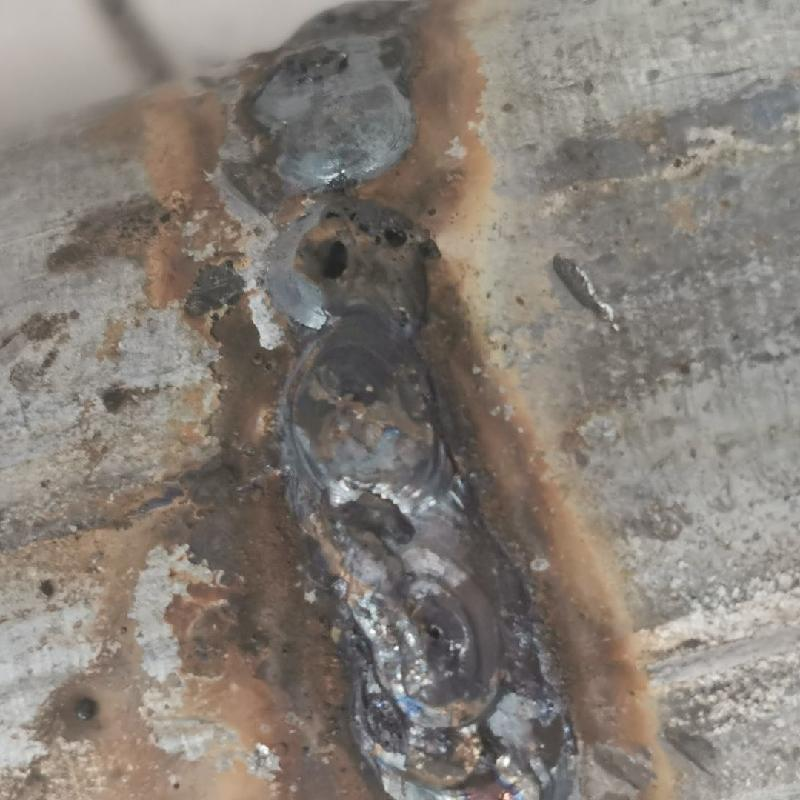Surface_pores: (307, 203, 408, 287), (415, 607, 457, 655)
